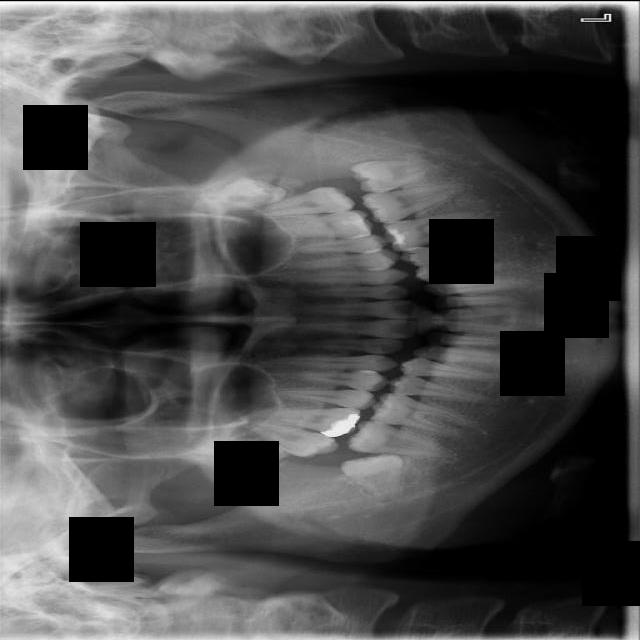3M ESPE Implant: (194, 435, 291, 470)
52: (315, 401, 366, 443), (328, 207, 376, 240), (385, 219, 429, 251)
BioHorizons Implant: (254, 184, 356, 218)
BioLife Implant: (191, 169, 290, 218)
Biomet 3i Implant: (350, 155, 436, 194)
Blue Sky Bio Implant: (361, 179, 467, 226)
Caries: (237, 416, 341, 464)
Implant: (346, 417, 459, 460)
Keystone Dental Implant: (338, 450, 408, 507)
